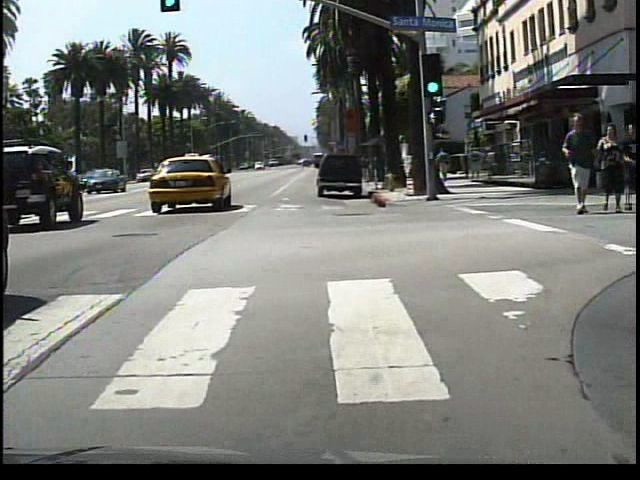person: (555, 104, 596, 223), (593, 124, 623, 219), (432, 145, 454, 186)
